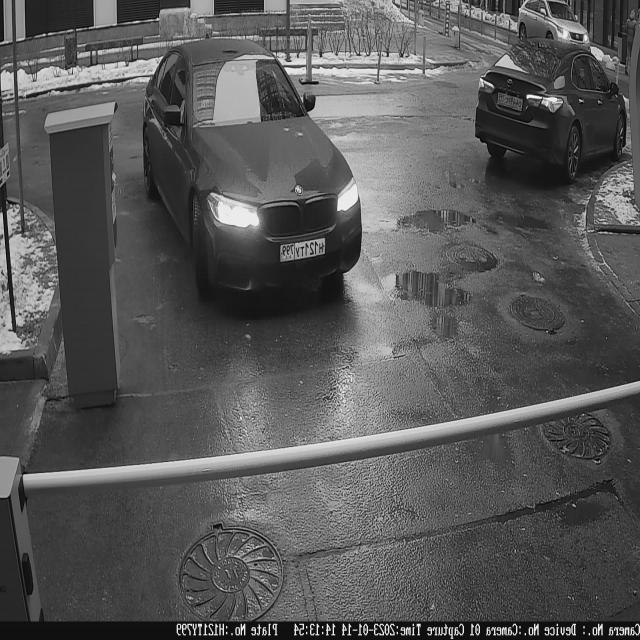car-plate-numbers: (280, 233, 329, 269)
